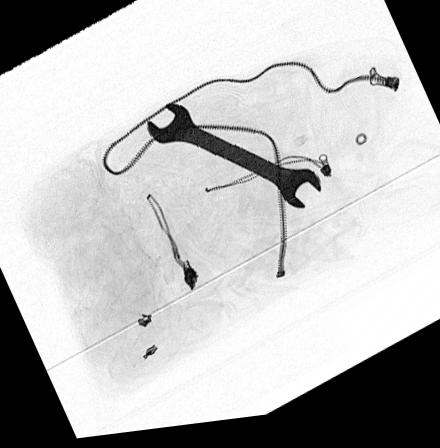Wrench: (146, 104, 321, 216)
